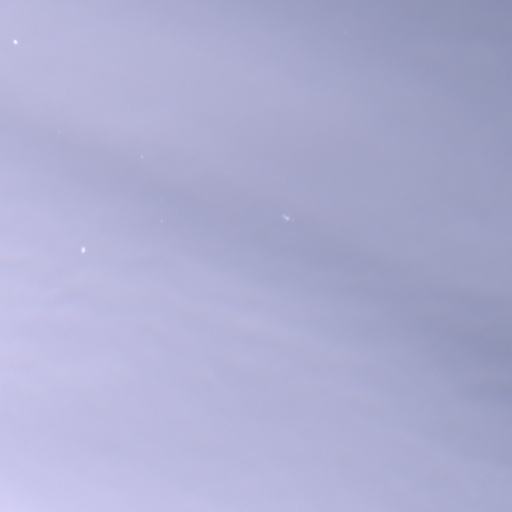Iceberg: (283, 215, 288, 220), (82, 247, 84, 251), (14, 40, 16, 43), (141, 155, 142, 157)
